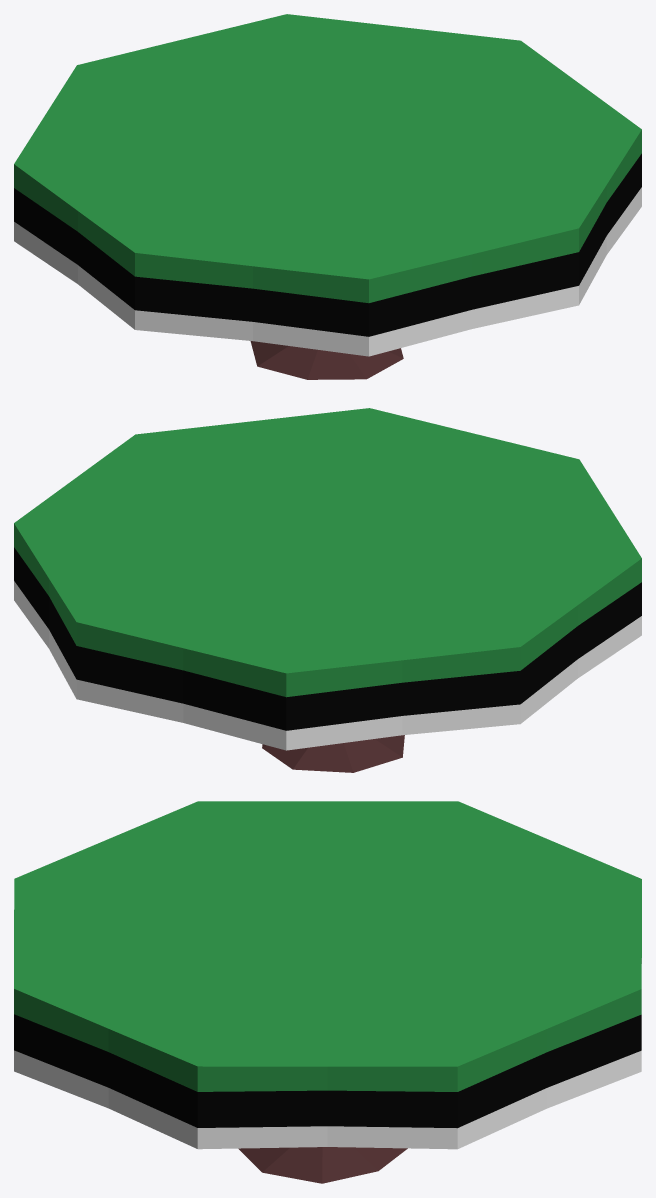
Rendered from Green round table.fbx.
3 views of the same model, one above another, from view 1: azimuth 30°, elevation 25°; view 2: azimuth 150°, elevation 25°; view 3: azimuth 270°, elevation 25° (orthographic). The views are drawn at different scales.
Visible parts, largest first — view 1: Green table; view 2: Green table; view 3: Green table.
Part boxes in pixels (left/top/right/bottom): Green table: left=14, top=14, right=641, bottom=379; Green table: left=14, top=408, right=641, bottom=772; Green table: left=14, top=801, right=641, bottom=1183.
Size of the model in its own units: 412 by 156 by 412.
